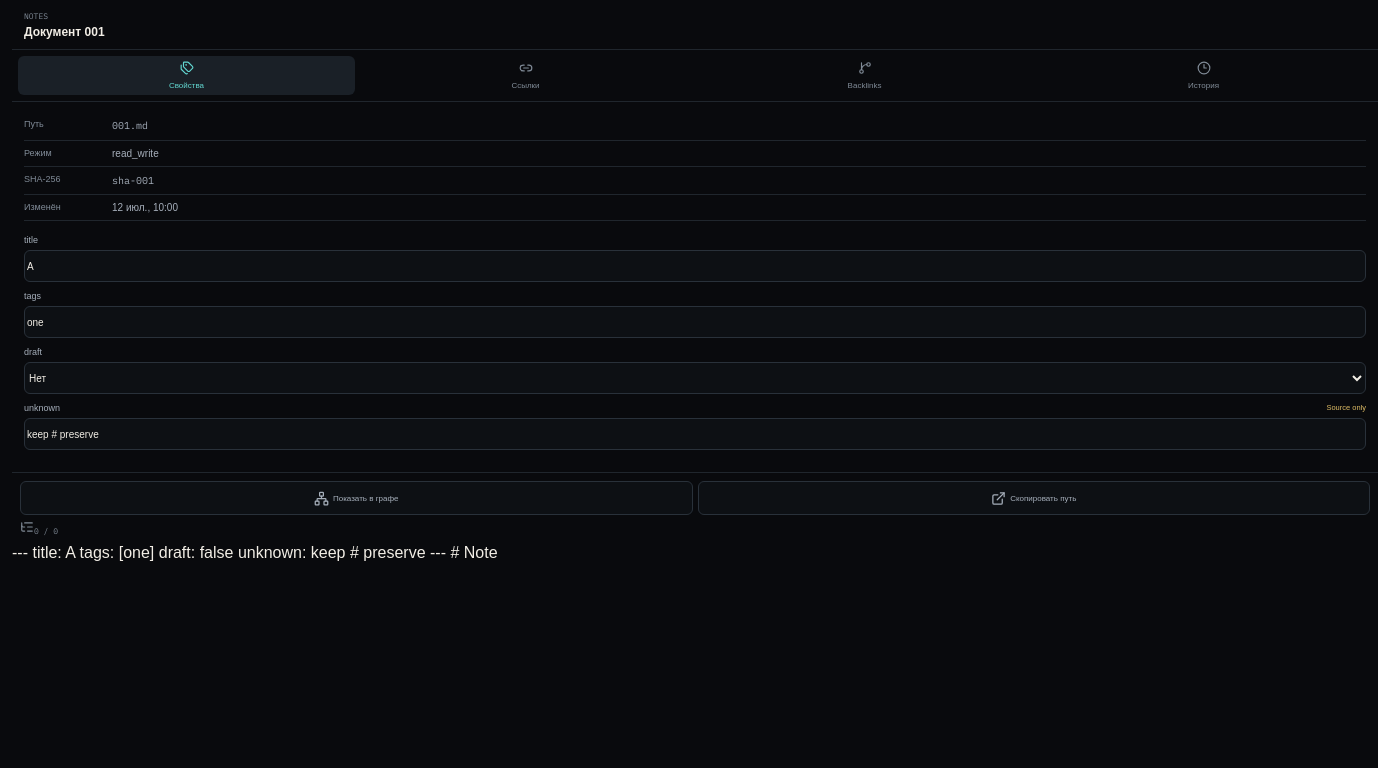
Scenario: document properties draft binding › keeps controlled values on the current draft and preserves source-only fields
This screenshot has width=1378, height=768.
Replace the text in the field labelled "title" with "AB": (695, 266) [24, 250, 1366, 282]
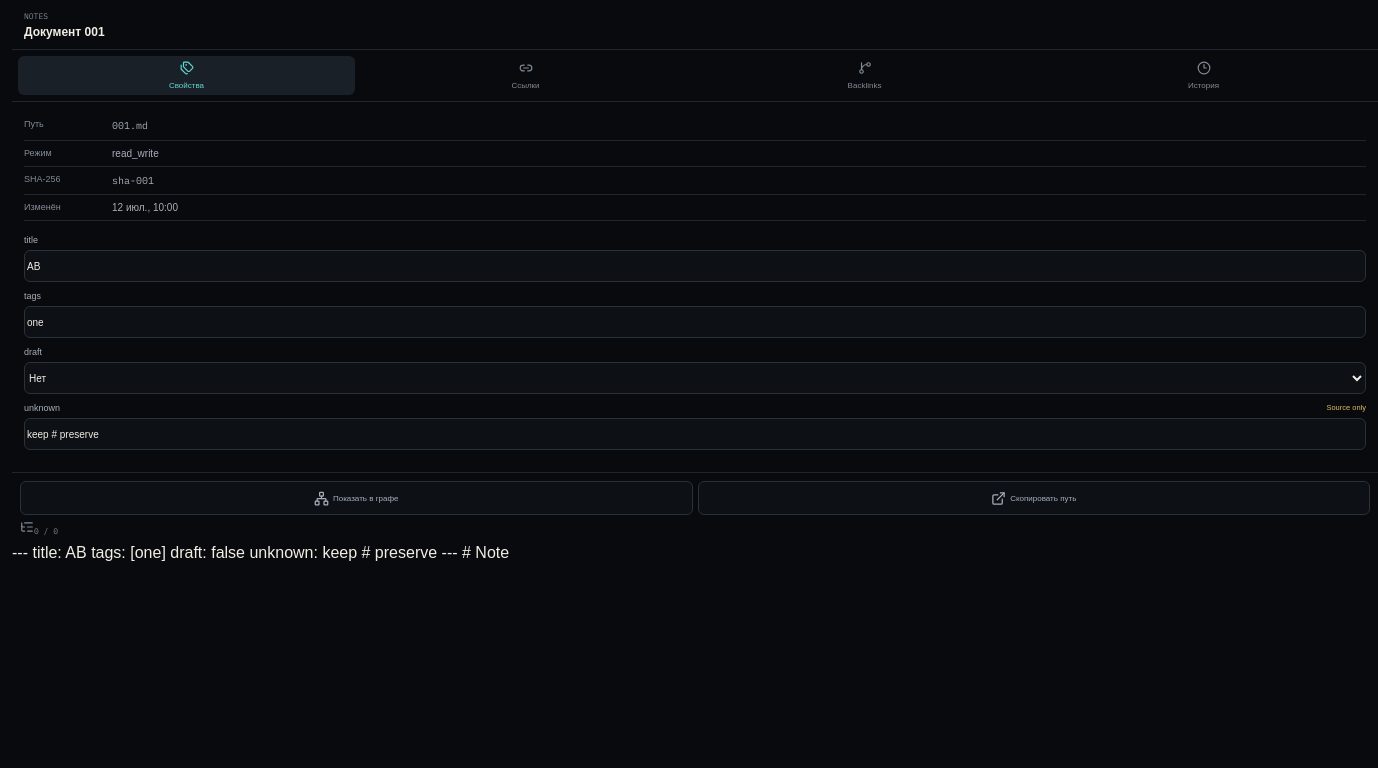
Replace the text in the field labelled "title" with "ABC": (695, 266) [24, 250, 1366, 282]
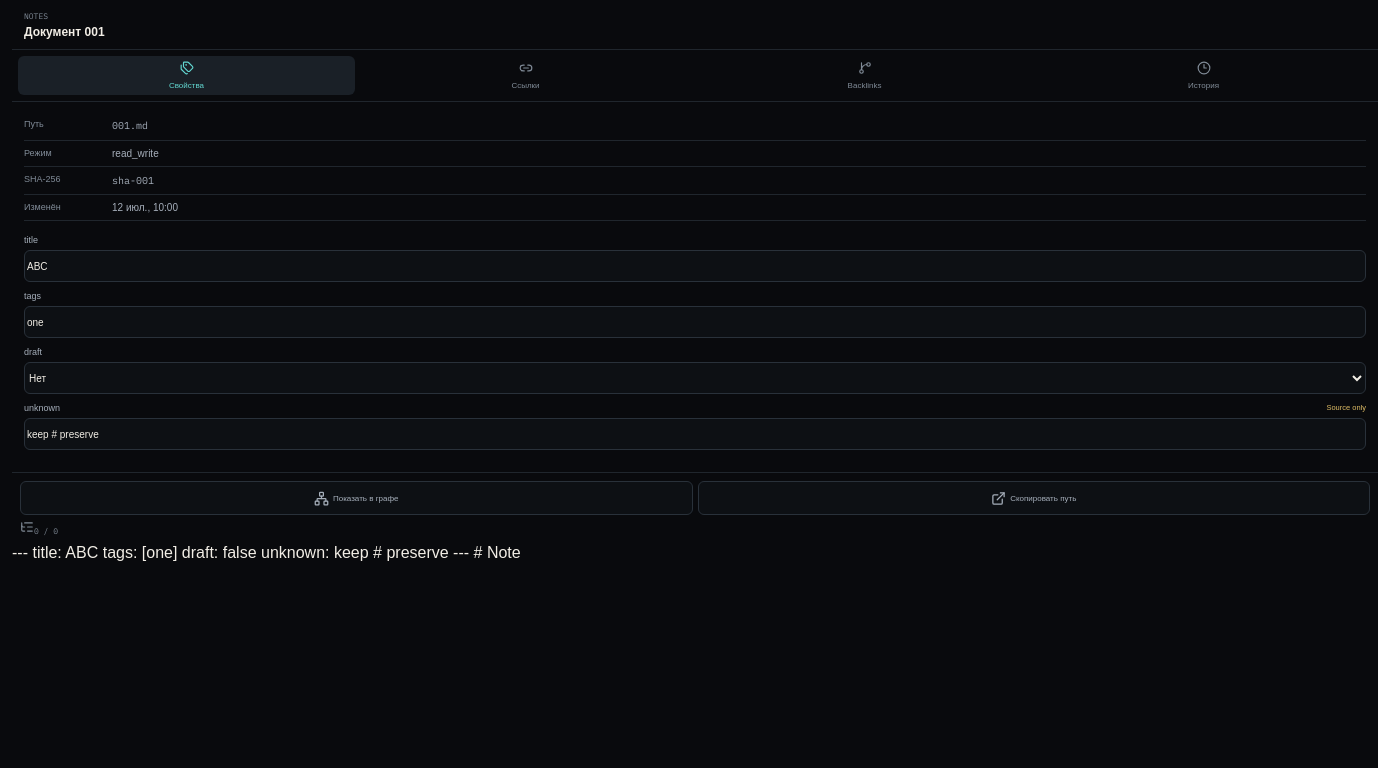
Replace the text in the field labelled "tags" with "one, two": (695, 322) [24, 306, 1366, 338]
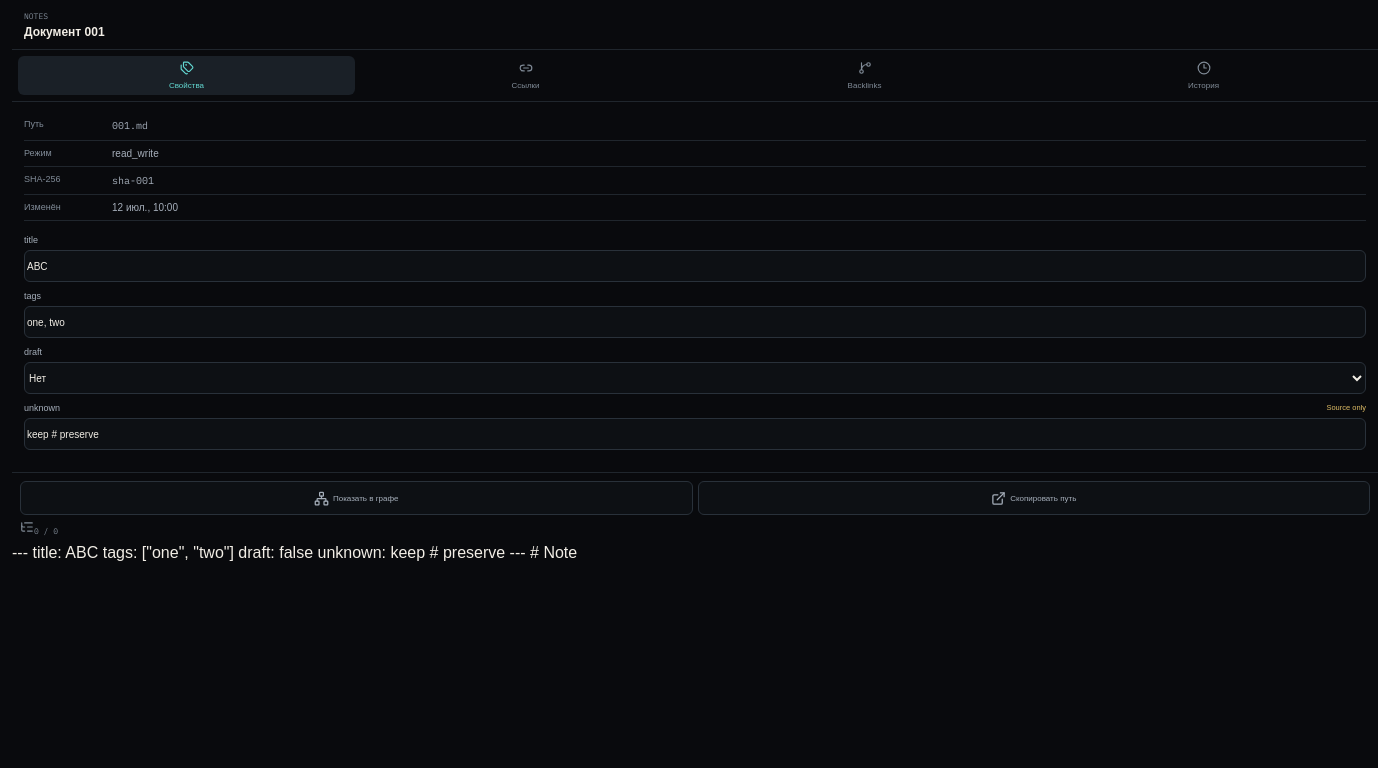
Select "Да" in the dropdown labelled "draft": (695, 378) [24, 362, 1366, 394]
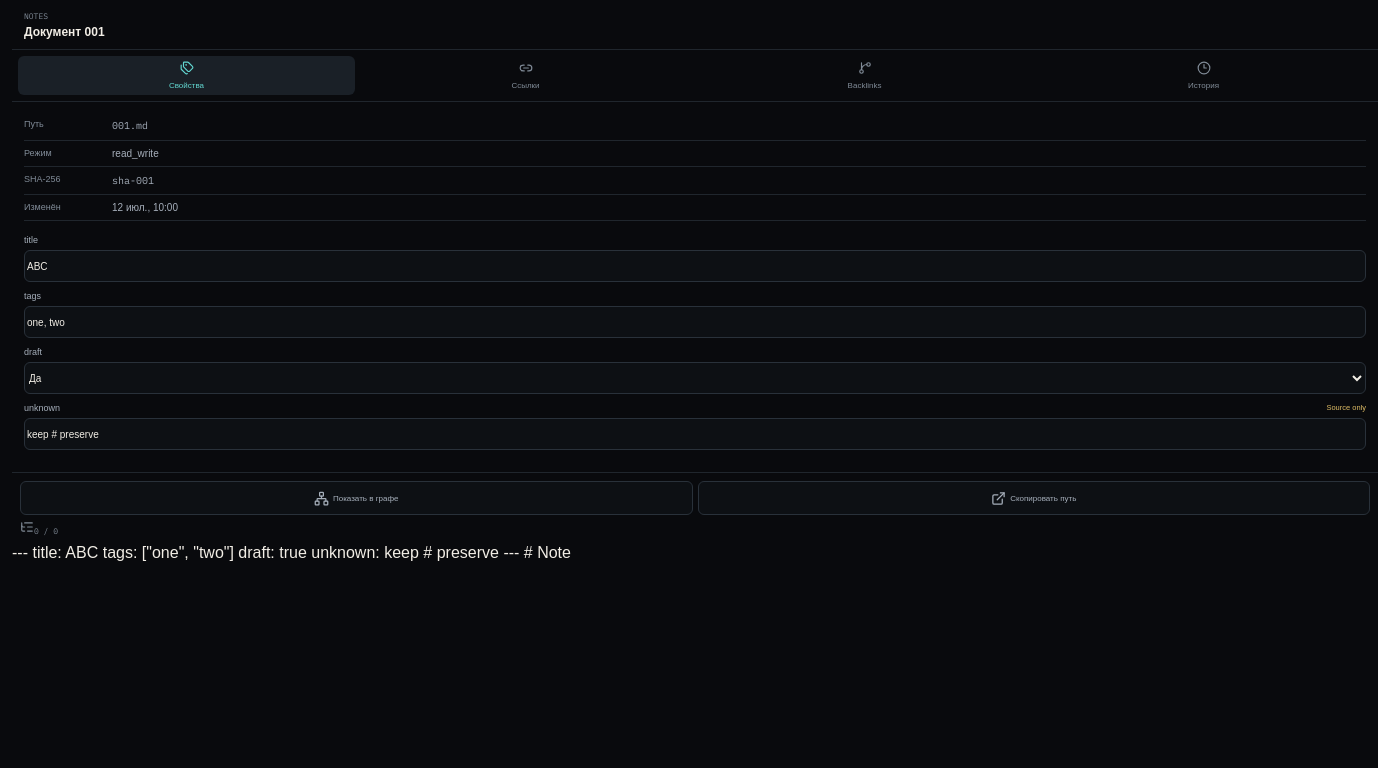
Expected: the text with test id "draft" shows "title: ABC", [12, 544, 571, 561]
Expected: the text with test id "draft" shows "tags: [\"one\", \"two\"]", [12, 544, 571, 561]
Expected: the text with test id "draft" shows "draft: true", [12, 544, 571, 561]
